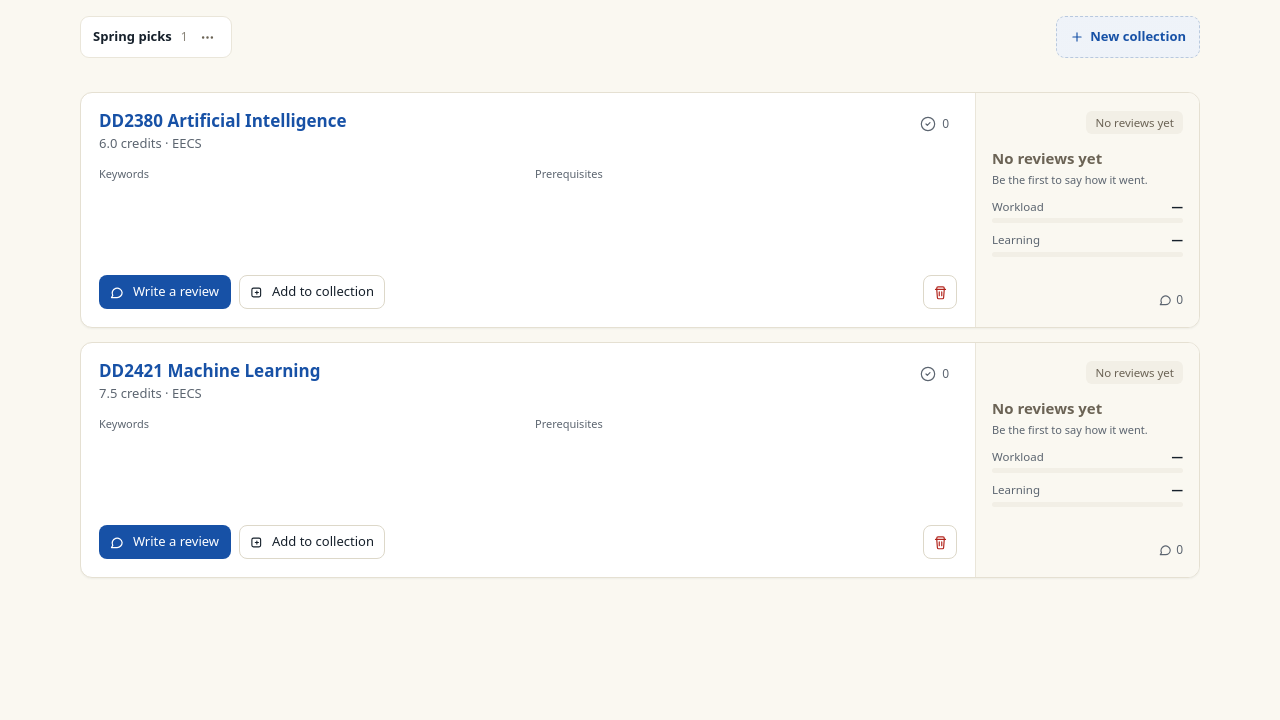
Test: Saved › the collections section › opens a collection here, and the saved list gets out of the way
Click the button named "Open collection Spring picks": (156, 37) [81,17,231,57]
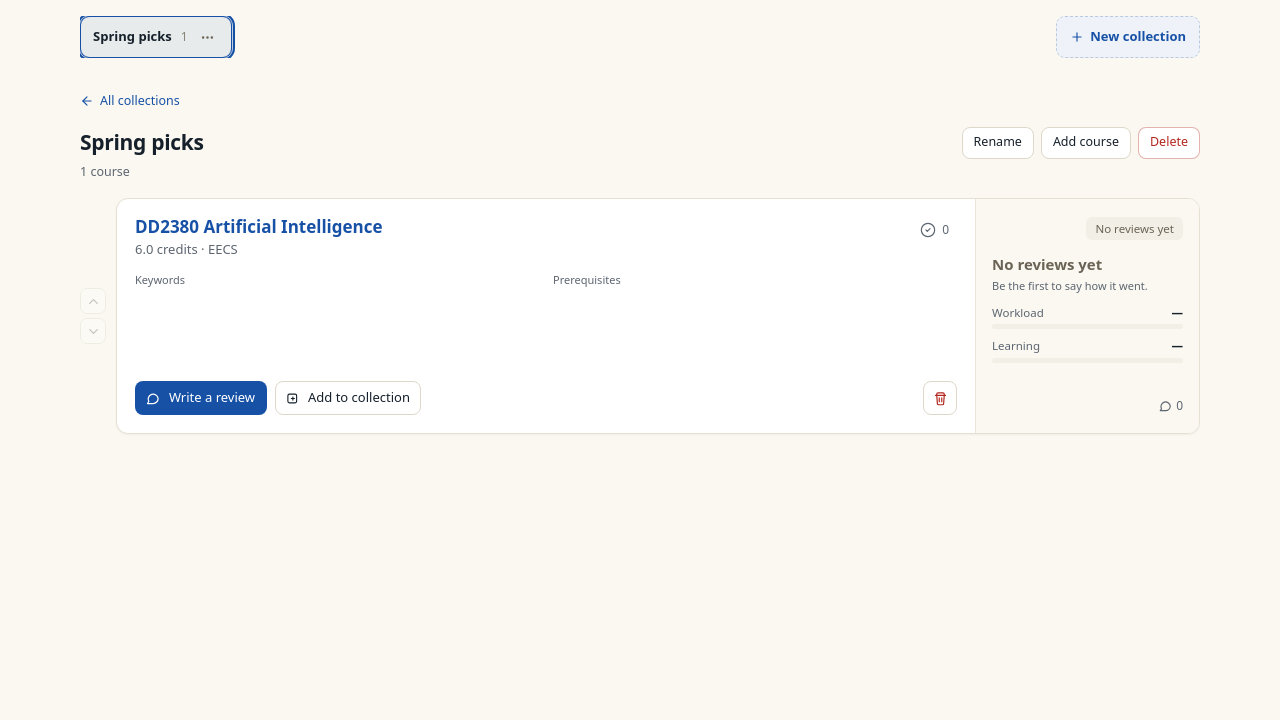
Expected: the heading "Spring picks" is shown, [80,127,204,158]
Expected: the button "DD2421 Machine Learning" is gone
